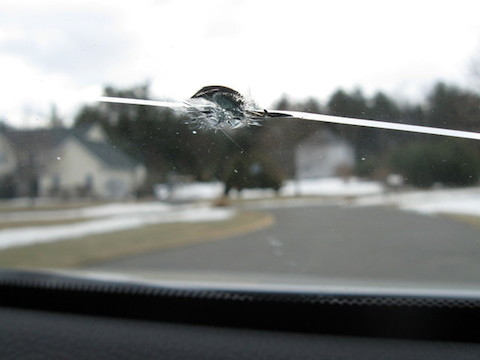bullseye: (171, 73, 271, 156)
scratch: (310, 100, 468, 160)
